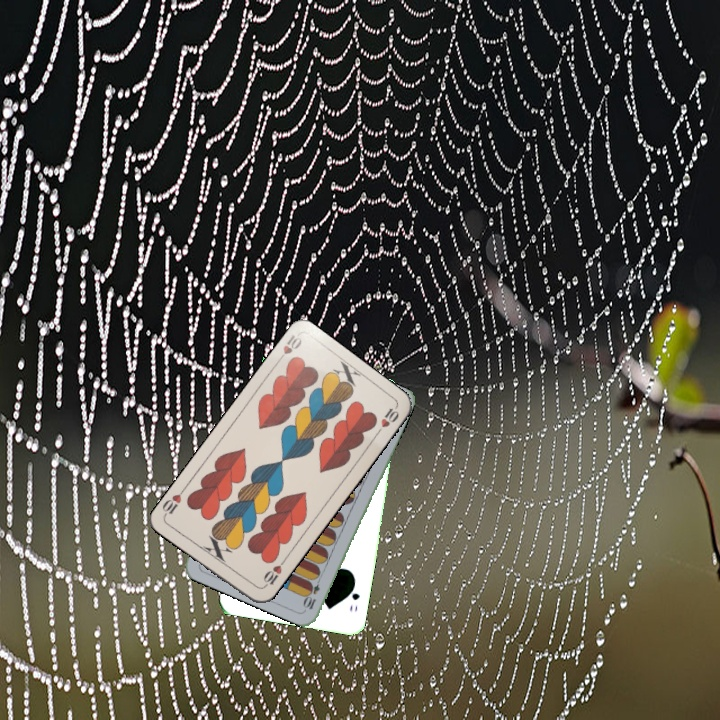E10: (301, 572, 324, 612)
GO: (345, 578, 362, 614)
H10: (273, 330, 304, 366), (258, 556, 288, 591)
